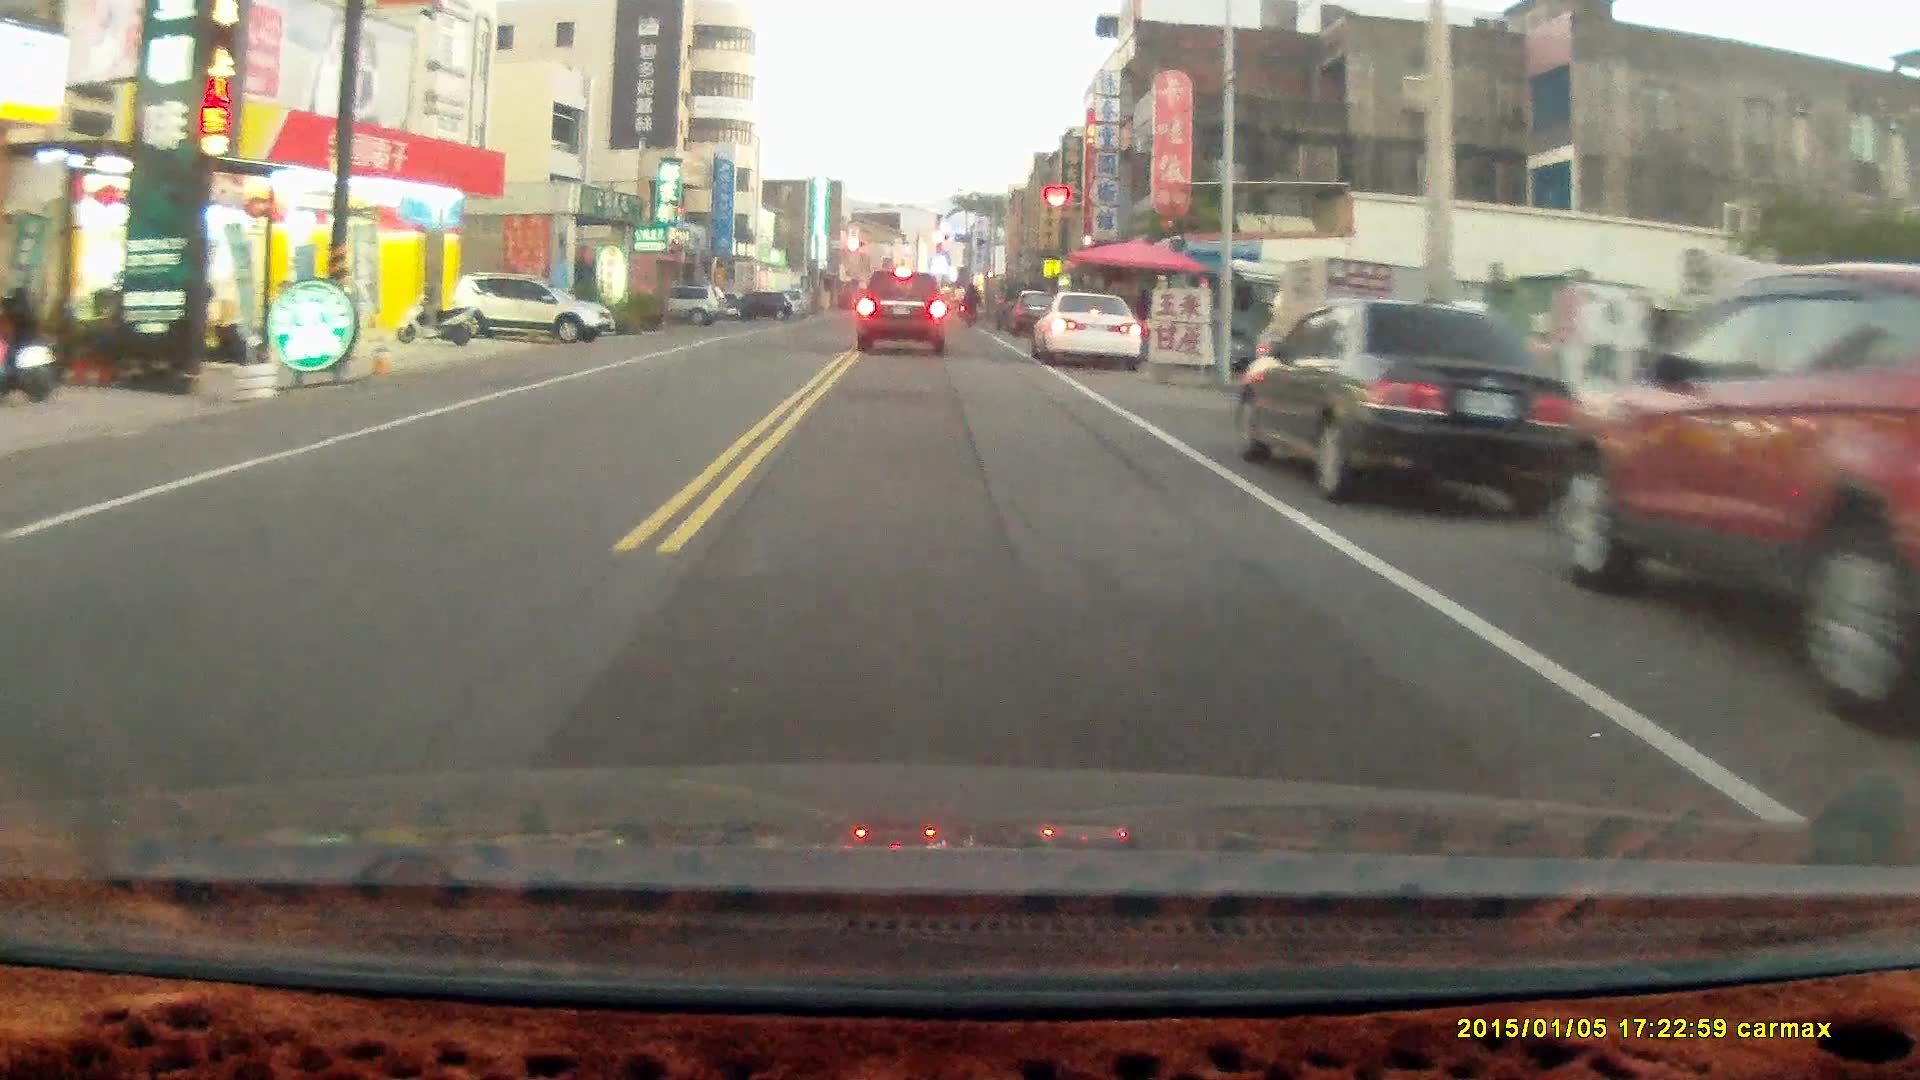vehicle: (1563, 261, 1920, 735), (1230, 299, 1590, 506), (1251, 256, 1435, 431), (451, 272, 617, 344), (1033, 297, 1149, 376), (856, 272, 948, 361)
